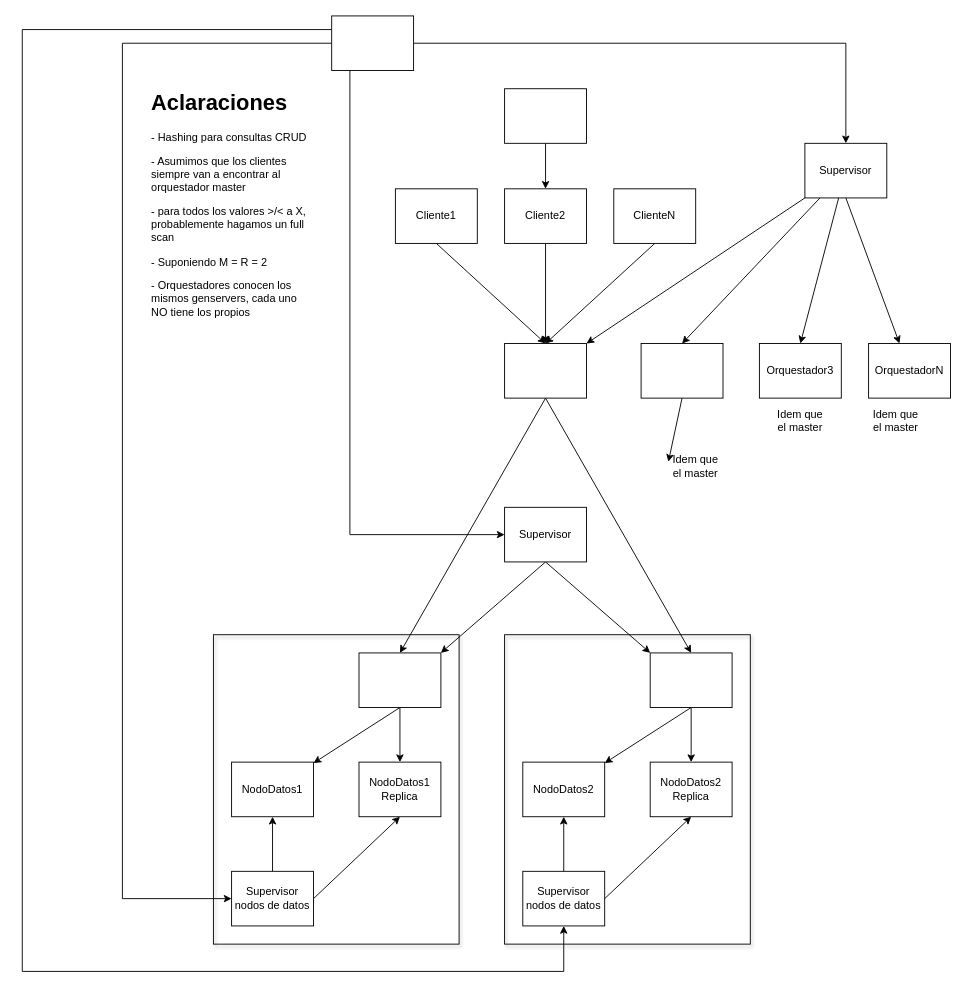
Image size: 966x995. Some labels were removed from this diagram. Here are the shapes that lost their labels. From the top down, the centre of each, then its label:
point (372, 43): Supervisor de supervisores
point (545, 115): curl
point (545, 370): Orquestador1 (master)
point (681, 370): Orquestador2
point (399, 680): Genserver1
point (690, 680): Genserver2
